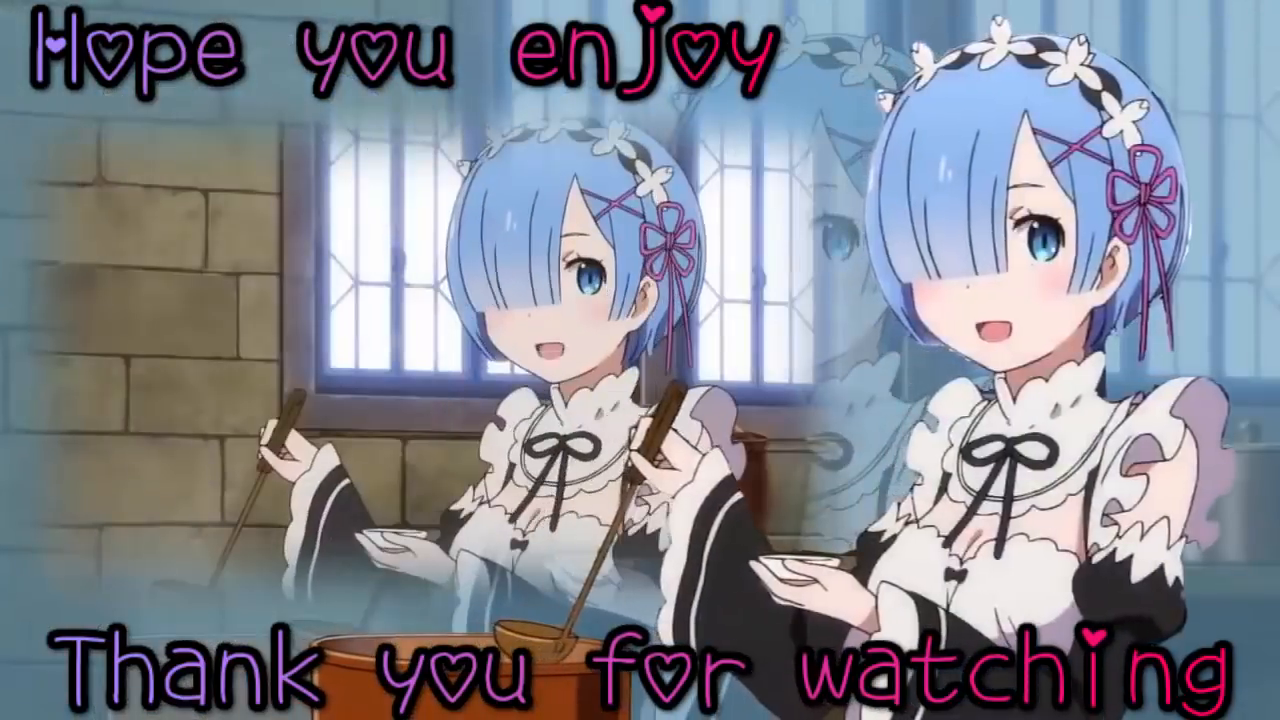REM: (868, 40, 1181, 371), (447, 123, 706, 381)
